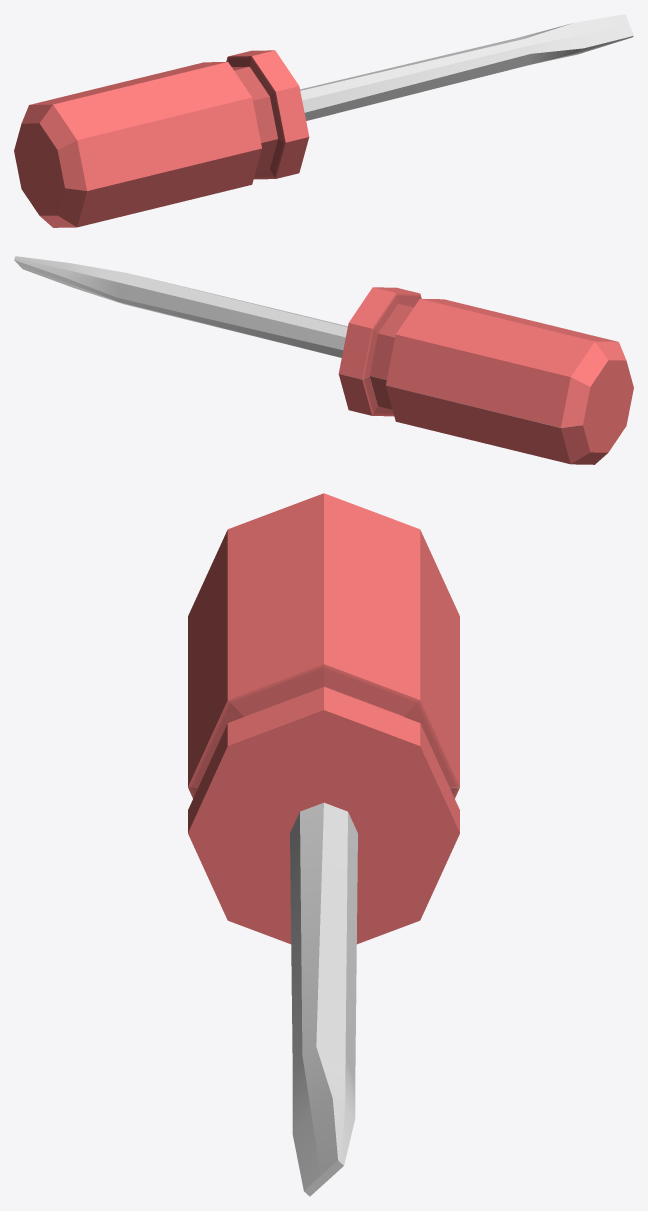
The model's file is ST_driver_R.fbx.
The picture shows the model from 3 angles, top to bottom: view 1: azimuth 30°, elevation 25°; view 2: azimuth 150°, elevation 25°; view 3: azimuth 270°, elevation 25°; orthographic projection. The views are drawn at different scales.
Visible parts, largest first — view 1: pCylinder13, pCylinder12; view 2: pCylinder13, pCylinder12; view 3: pCylinder13, pCylinder12.
Part boxes in pixels (<box>): pCylinder13: <box>14,50,309,227</box>; pCylinder12: <box>300,14,633,120</box>; pCylinder13: <box>338,287,633,464</box>; pCylinder12: <box>14,256,347,357</box>; pCylinder13: <box>188,493,459,944</box>; pCylinder12: <box>290,802,357,1196</box>.
Bounding box in the file's own units: 5 × 1 × 1.
Materials: 1 (1 with a texture image).
